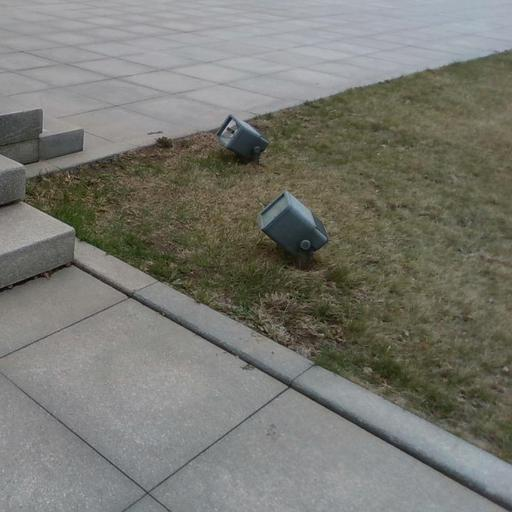stairs: (0, 155, 74, 288), (0, 97, 83, 163)
